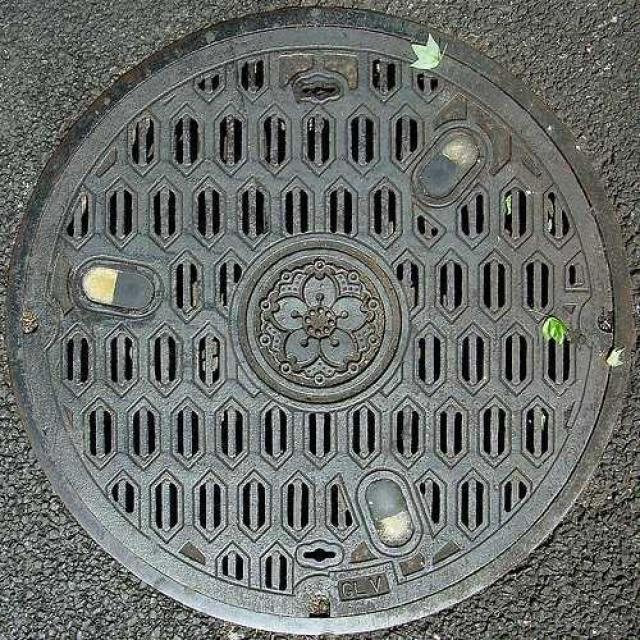manhole: (7, 9, 633, 632)
